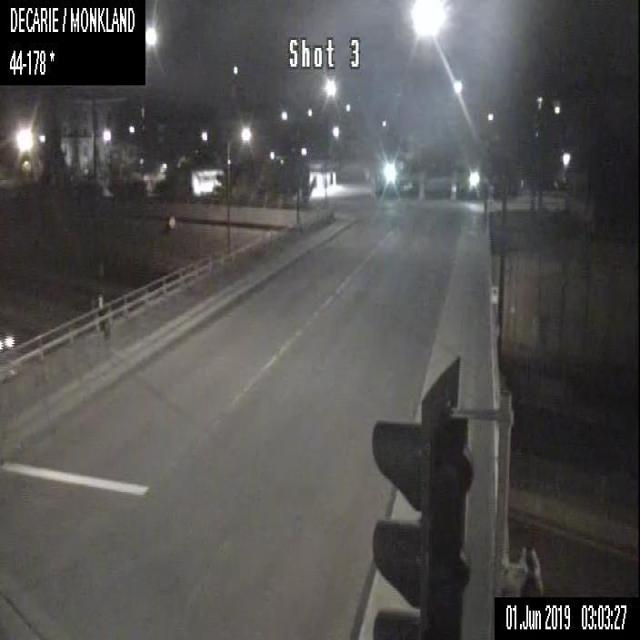vehicle: (0, 328, 14, 352)
